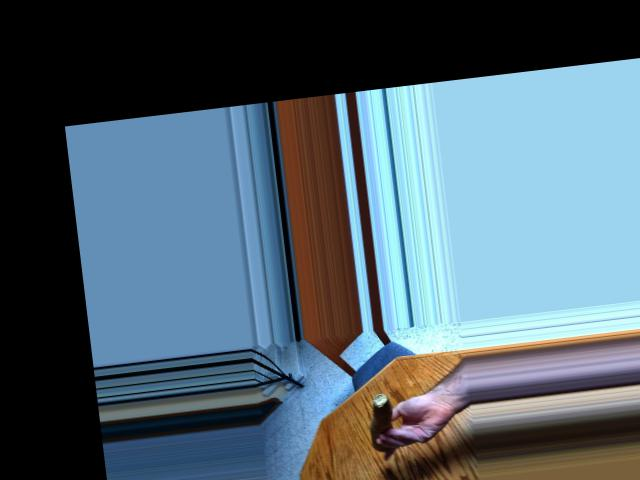sweet_potato: (367, 402, 398, 449)
